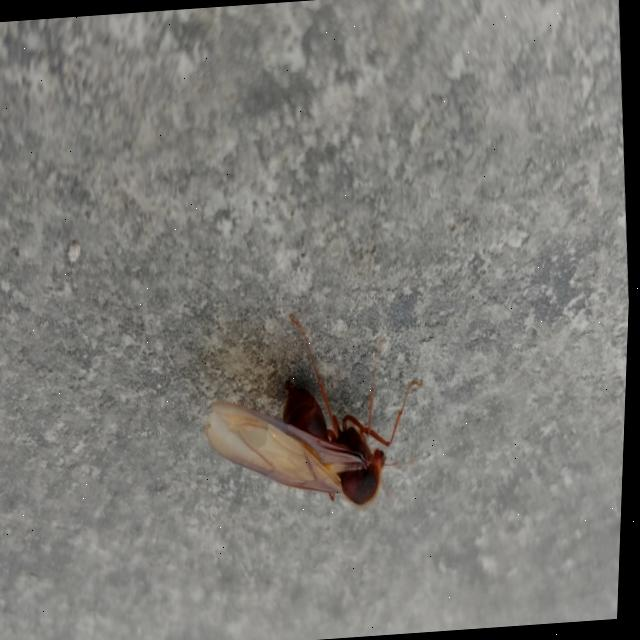Alive-Male-Alate: (197, 306, 442, 521)
